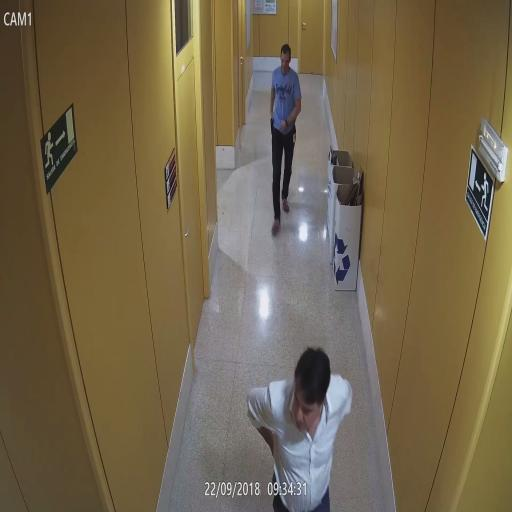Handgun: (268, 116, 276, 138)
